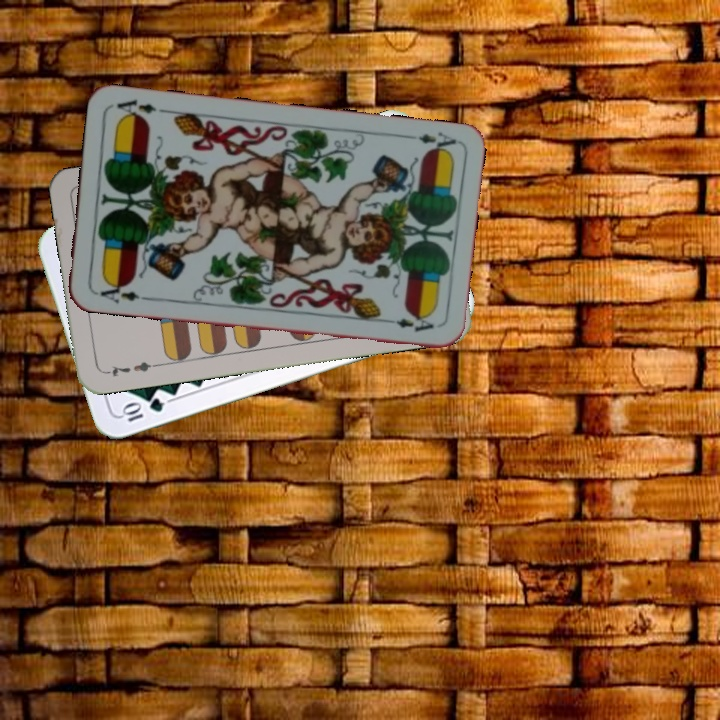E7: (100, 357, 159, 380)
EA: (400, 127, 459, 156), (91, 278, 150, 306)
G10: (117, 394, 167, 425)
